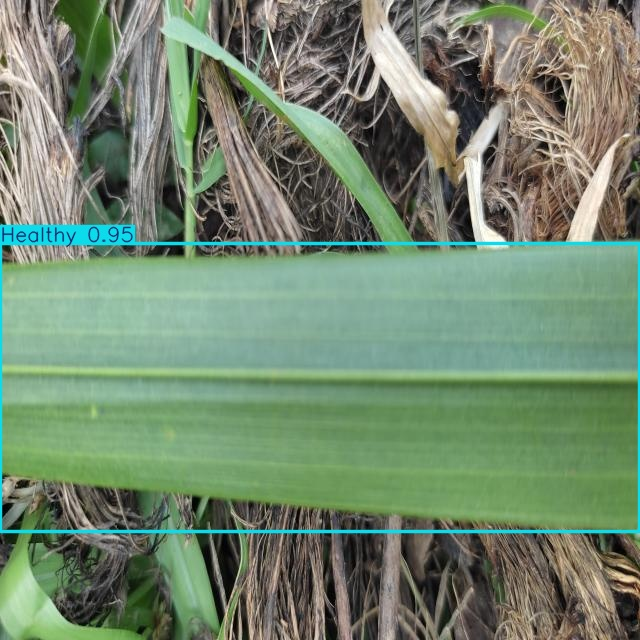Healthy: (0, 243, 640, 531)
